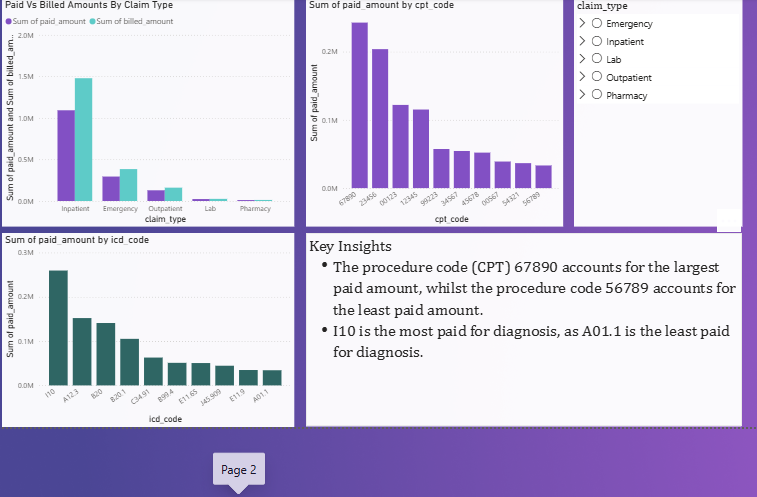

What the dashboard file says about the page in this screenshot:
{"tool":"powerbi","page":{"name":"Page 2","canvas":[1280,720],"ordinal":1},"visuals":[{"type":"clusteredColumnChart","title":"Paid Vs Billed Amounts By Claim Type","fields":{"Category":["claims.claim_type"],"Y":["Sum(claims.paid_amount)","Sum(claims.billed_amount)"]},"box":[10.2,0,491,384.3],"z":0},{"type":"clusteredColumnChart","fields":{"Category":["claims.cpt_code"],"Y":["Sum(claims.paid_amount)"]},"box":[521.5,0,431.7,384.3],"z":1000},{"type":"clusteredColumnChart","fields":{"Category":["claims.icd_code"],"Y":["Sum(claims.paid_amount)"]},"box":[10,394,491,326],"z":2000},{"type":"textbox","box":[521.5,394.5,731.4,325.1],"z":3000},{"type":"listSlicer","fields":{"Values":["claims.claim_type","claims.icd_code","claims.cpt_code"]},"box":[970.2,0,282.8,384.3],"z":4000}]}

Visuals, with their boxes on the page's 1280x720 design canvas (x1, y1, x2, y2). These are canvas units, not pixel positions in the 757x497 screenshot, which may show the page scaled, cropped or inside an application window:
"Paid Vs Billed Amounts By Claim Type" clusteredColumnChart: (x1=10, y1=0, x2=501, y2=384)
clusteredColumnChart - claims.cpt_code x Sum(claims.paid_amount): (x1=522, y1=0, x2=953, y2=384)
clusteredColumnChart - claims.icd_code x Sum(claims.paid_amount): (x1=10, y1=394, x2=501, y2=720)
textbox: (x1=522, y1=394, x2=1253, y2=720)
listSlicer - claims.claim_type x claims.icd_code: (x1=970, y1=0, x2=1253, y2=384)
